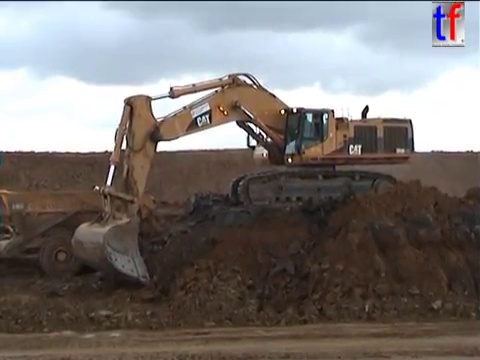excavator: (68, 70, 417, 288)
truck: (1, 187, 158, 281)
worker: (90, 181, 103, 204)
